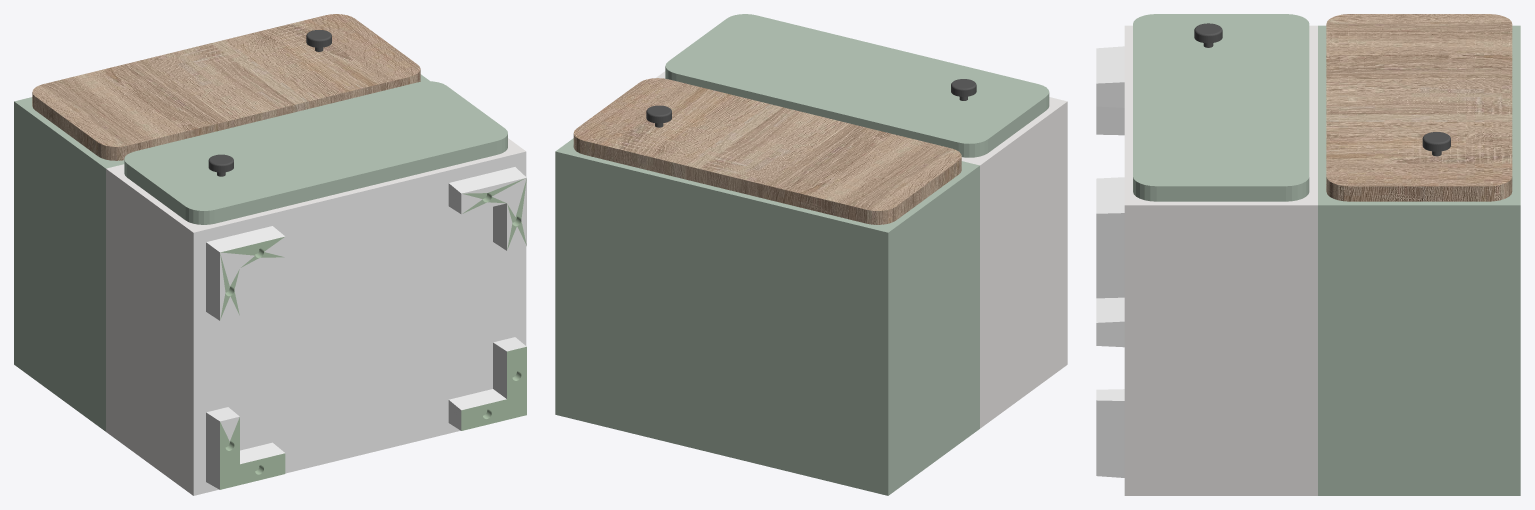
File: DOMINO tn.glb
3 views of the same model, side by side, from view 1: azimuth 30°, elevation 25°; view 2: azimuth 150°, elevation 25°; view 3: azimuth 270°, elevation 25° (orthographic). The views are drawn at different scales.
Parts seen in each view (by area): view 1: 3DGeom-4, 3DGeom-1, 3DGeom-5, 3DGeom-3, 3DGeom-8, 3DGeom-7; view 2: 3DGeom-1, 3DGeom-5, 3DGeom-3, 3DGeom-7; view 3: 3DGeom-1, 3DGeom-3, 3DGeom-5, 3DGeom-4, 3DGeom-7.
Part boxes in pixels (box(x1,y1,x2,y2)): 3DGeom-4: box(193, 151, 526, 495); 3DGeom-1: box(14, 74, 507, 431); 3DGeom-5: box(32, 14, 420, 160); 3DGeom-3: box(106, 138, 525, 495); 3DGeom-8: box(220, 178, 526, 489); 3DGeom-7: box(208, 30, 331, 176); 3DGeom-1: box(555, 14, 1049, 495); 3DGeom-5: box(573, 78, 961, 224); 3DGeom-3: box(656, 71, 1067, 428); 3DGeom-7: box(646, 79, 976, 127); 3DGeom-1: box(1133, 14, 1520, 495); 3DGeom-3: box(1124, 25, 1317, 495); 3DGeom-5: box(1326, 14, 1512, 201); 3DGeom-4: box(1096, 46, 1124, 477); 3DGeom-7: box(1194, 23, 1450, 156).
Size of the model in its own units: 0.45 by 0.378 by 0.45.
8 materials, 1 textured.
